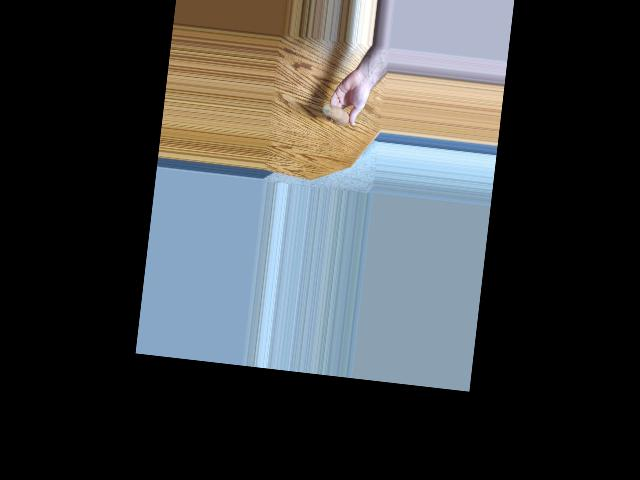sweet_potato: (321, 101, 353, 123)
